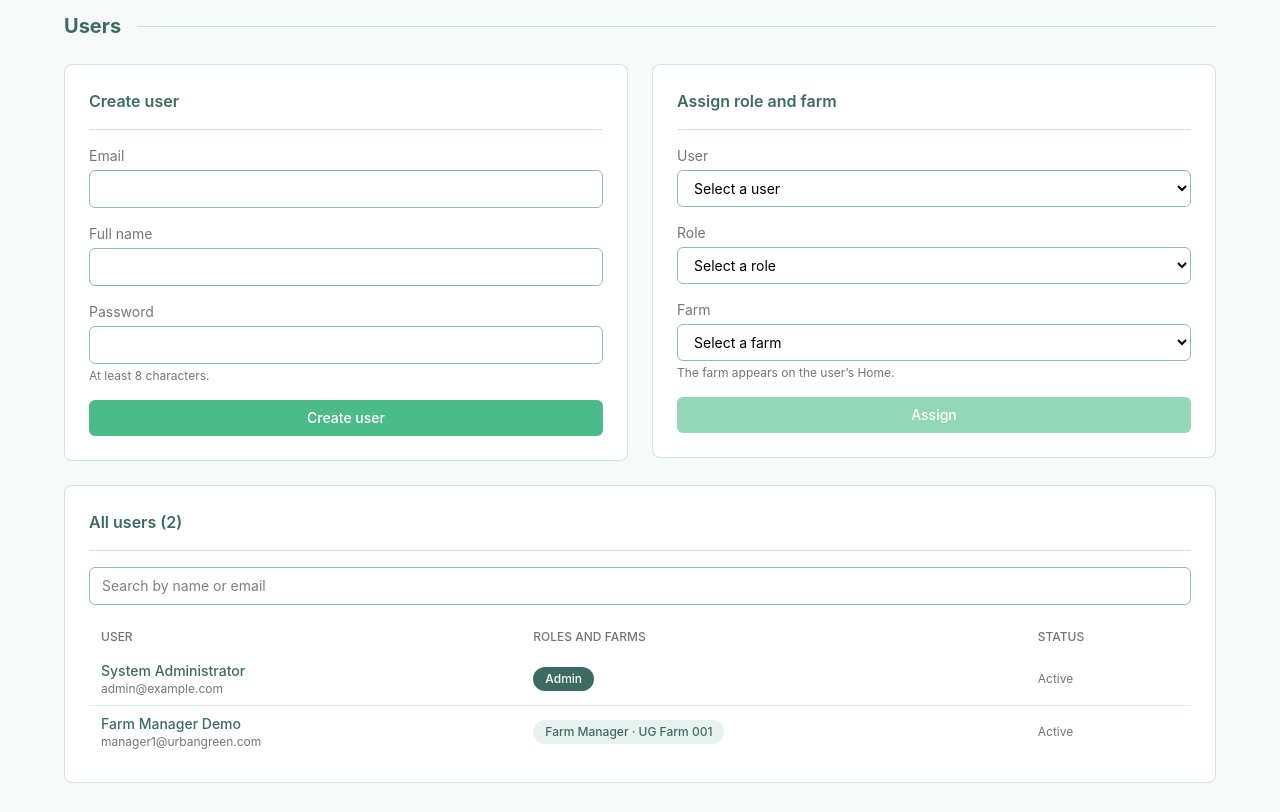
Test case: Users › assigns a role on a farm through POST /user-roles
This screenshot has width=1280, height=812.
Expected: the text "Farm Manager Demo" is shown, [101,715,241,732]
Select "Farm Manager Demo (manager1@urbangreen.com)" in the dropdown labelled "User" at (934, 188), box [677,170,1191,207]
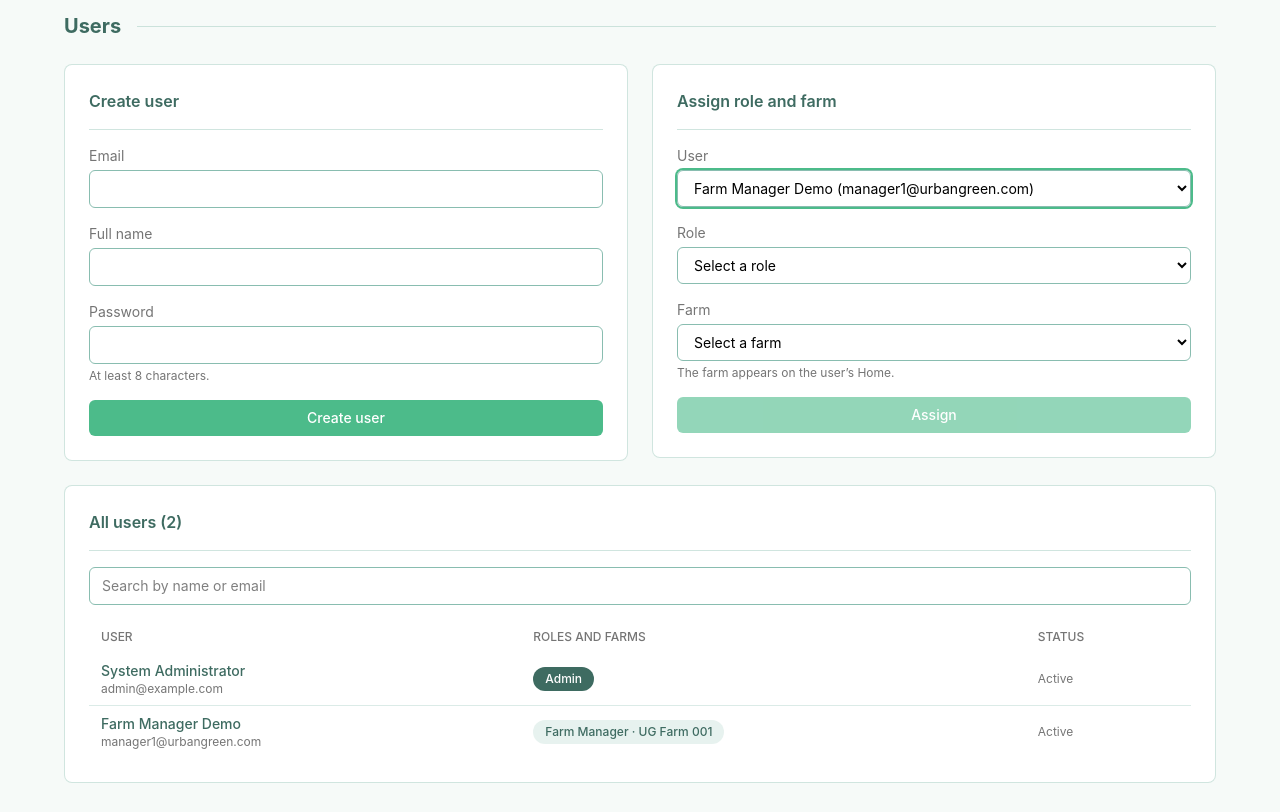
Select "Farm Manager" in the dropdown labelled "Role" at (934, 266), box [677,247,1191,284]
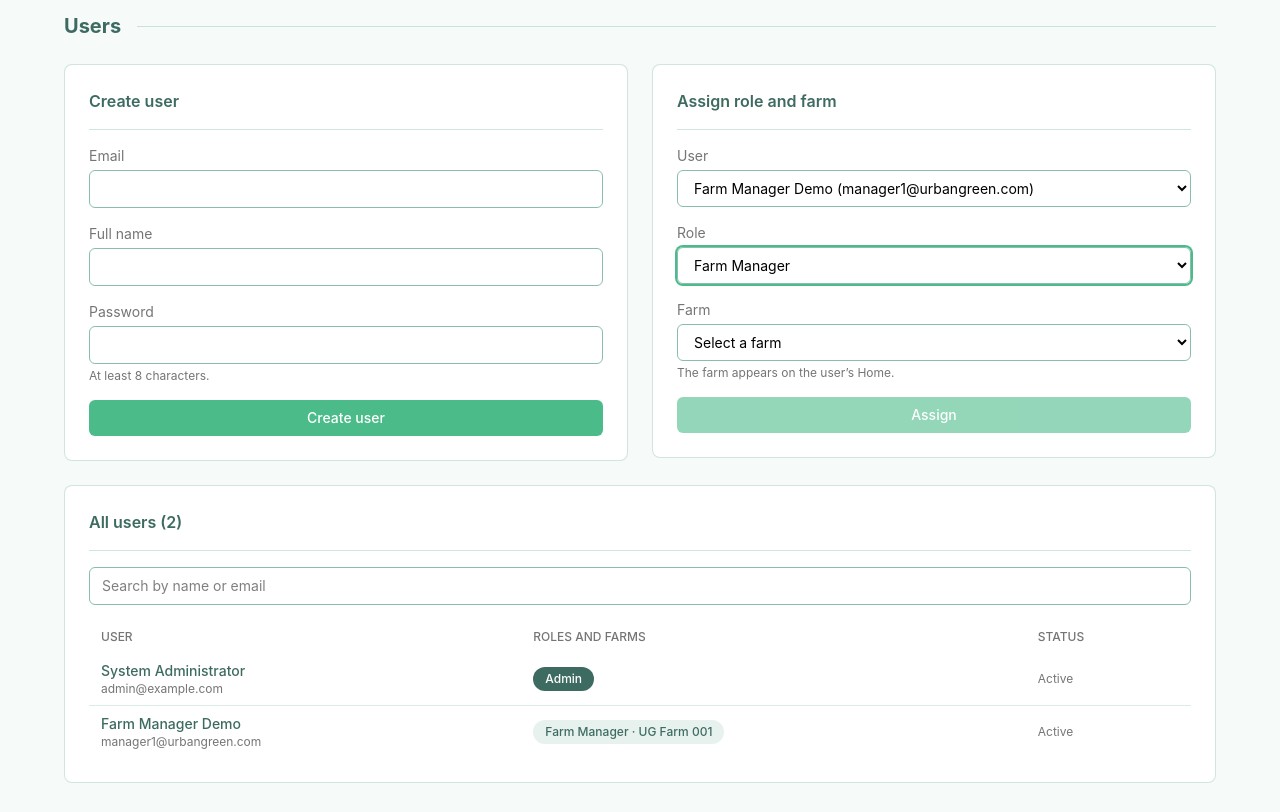
Select "UG Farm 002" in the dropdown labelled "Farm" at (934, 342), box [677,324,1191,361]
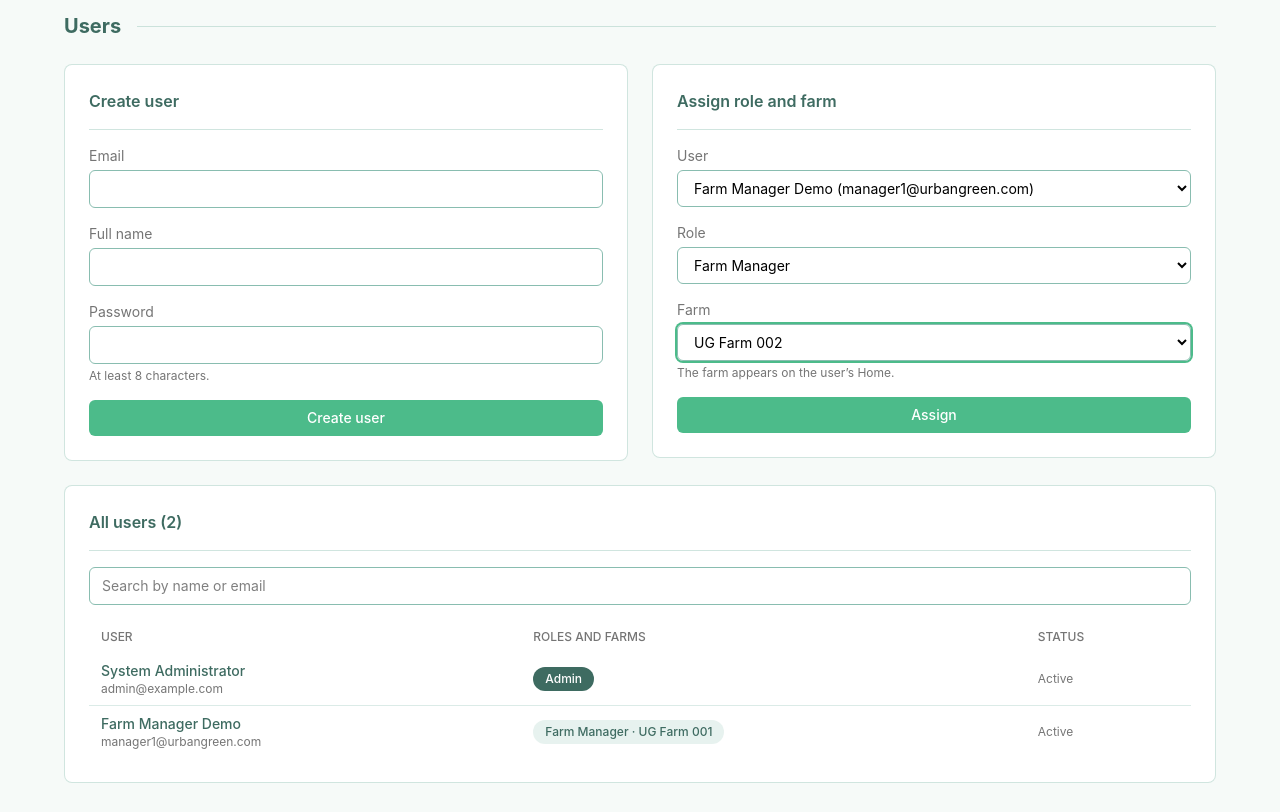
Click the button "Assign" at (934, 415), box [677,397,1191,433]
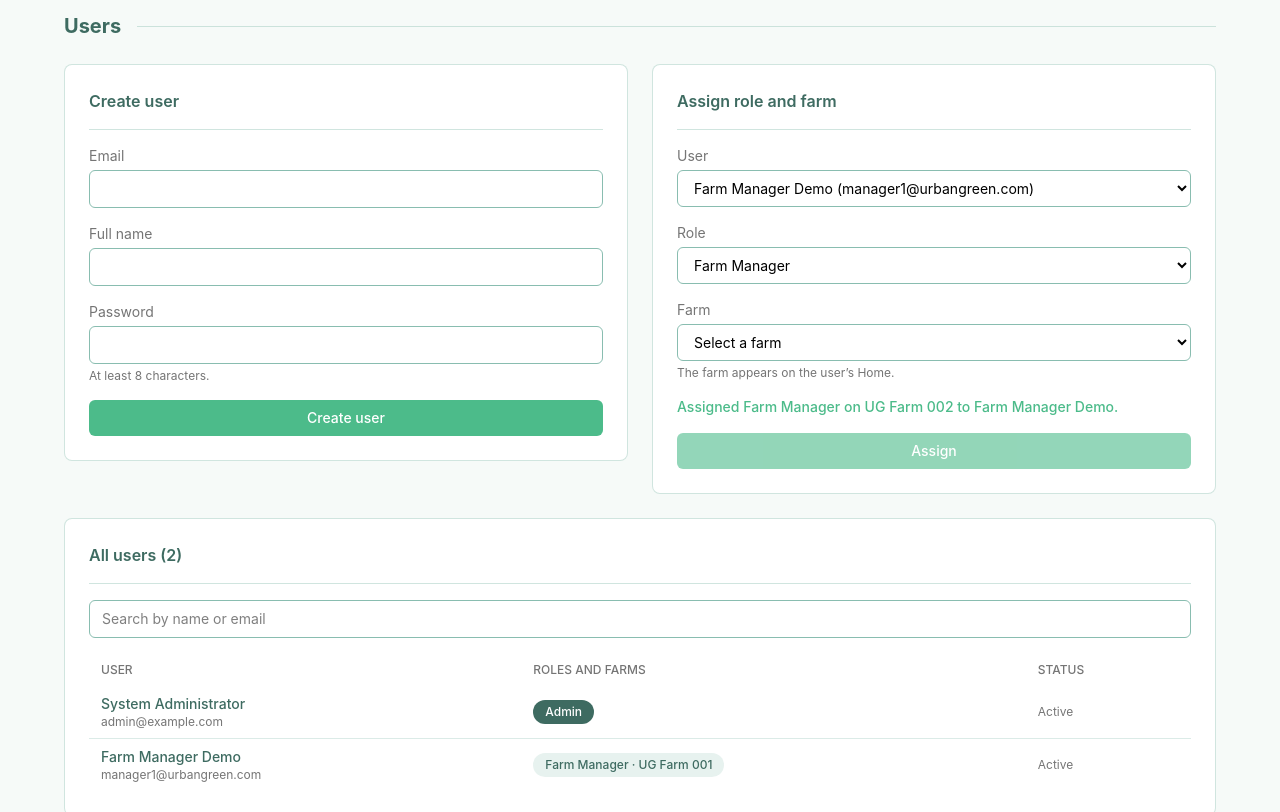
Expected: the message "Assigned Farm Manager on UG Farm 002 to Farm Manager Demo." is shown, [677,397,1191,417]
